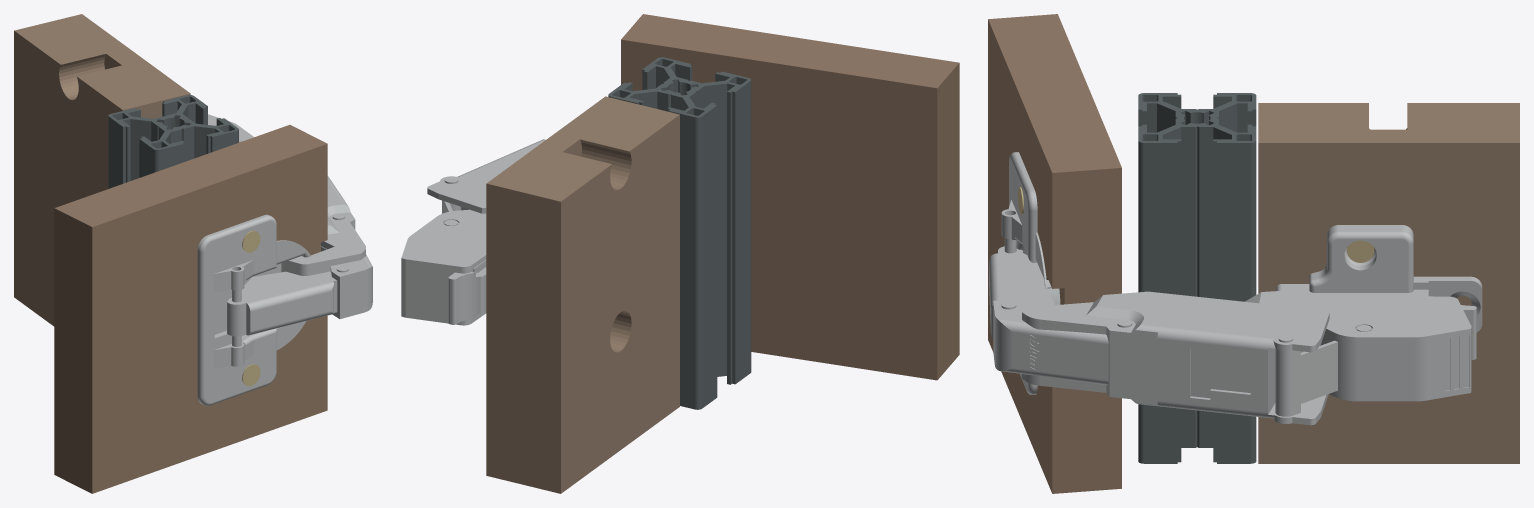
File: hinge-170.glb
3 views of the same model, side by side, from view 1: azimuth 30°, elevation 25°; view 2: azimuth 150°, elevation 25°; view 3: azimuth 270°, elevation 25° (orthographic). The views are drawn at different scales.
Visible parts, largest first — view 1: Left-door-face-18, Left-pegboard-18, Blum-1-71T6650-body-5, Post-4-23, Blum-1-71T6650-body-4, Blum-1-71T6650-body-2, Blum-1-71T6650-body-3; view 2: Left-door-face-18, Left-pegboard-18, Post-4-23, Blum-1-71T6650-body-0, Blum-1-71T6650-body-2, Blum-1-71T6650-body-6; view 3: Left-pegboard-18, Left-door-face-18, Post-4-23, Blum-1-71T6650-body-2, Blum-1-71T6650-body-0, Blum-1-175H7190, Blum-1-71T6650-body-3, Blum-1-71T6650-body-1, Blum-1-71T6650-body-5, Blum-1-71T6650-body-4.
Part boxes in pixels (left/top/right/bottom): Left-door-face-18: left=54, top=124, right=327, bottom=493; Left-pegboard-18: left=14, top=14, right=190, bottom=326; Blum-1-71T6650-body-5: left=197, top=214, right=310, bottom=405; Post-4-23: left=108, top=95, right=238, bottom=188; Blum-1-71T6650-body-4: left=227, top=271, right=337, bottom=336; Blum-1-71T6650-body-2: left=281, top=176, right=365, bottom=314; Blum-1-71T6650-body-3: left=321, top=246, right=372, bottom=318; Left-door-face-18: left=621, top=14, right=959, bottom=380; Left-pegboard-18: left=486, top=96, right=679, bottom=493; Post-4-23: left=608, top=57, right=751, bottom=409; Blum-1-71T6650-body-0: left=401, top=209, right=486, bottom=325; Blum-1-71T6650-body-2: left=427, top=139, right=545, bottom=213; Blum-1-71T6650-body-6: left=448, top=260, right=486, bottom=324; Left-pegboard-18: left=1258, top=103, right=1519, bottom=463; Left-door-face-18: left=988, top=14, right=1121, bottom=493; Post-4-23: left=1138, top=93, right=1256, bottom=463; Blum-1-71T6650-body-2: left=1022, top=277, right=1329, bottom=425; Blum-1-71T6650-body-0: left=1245, top=290, right=1471, bottom=401; Blum-1-175H7190: left=1276, top=225, right=1482, bottom=332; Blum-1-71T6650-body-3: left=993, top=300, right=1108, bottom=384; Blum-1-71T6650-body-1: left=1275, top=340, right=1337, bottom=416; Blum-1-71T6650-body-5: left=1001, top=152, right=1060, bottom=394; Blum-1-71T6650-body-4: left=989, top=246, right=1043, bottom=338.
Size of the model in its own units: 0.127 by 0.09 by 0.1352.
